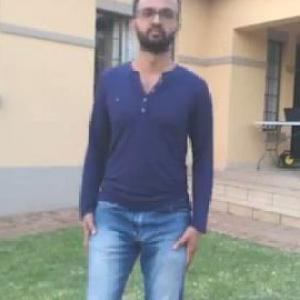follow: (89, 0, 205, 299)
